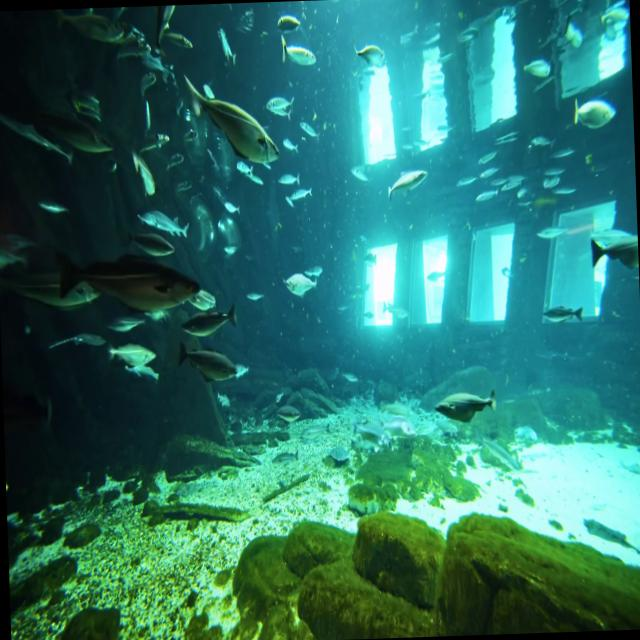fish: (53, 235, 209, 318), (183, 72, 283, 175), (170, 334, 242, 391), (44, 110, 118, 164), (48, 6, 130, 54), (428, 380, 497, 430), (586, 217, 638, 283), (274, 30, 328, 84), (566, 84, 618, 138), (128, 140, 160, 208), (280, 262, 320, 316), (40, 323, 102, 357), (181, 300, 242, 334), (385, 160, 432, 204), (141, 198, 190, 240), (102, 342, 160, 373), (537, 304, 589, 336), (212, 20, 242, 74), (263, 86, 300, 128), (520, 47, 556, 87), (354, 34, 389, 68), (159, 27, 195, 54)
